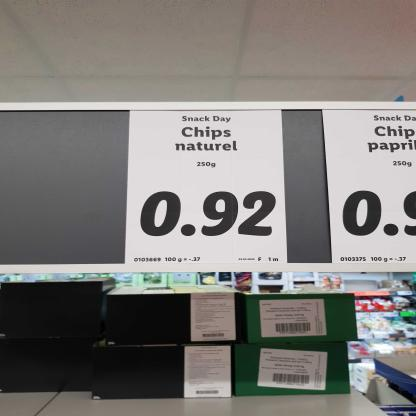prtg: (126, 111, 289, 264), (323, 110, 416, 265)
